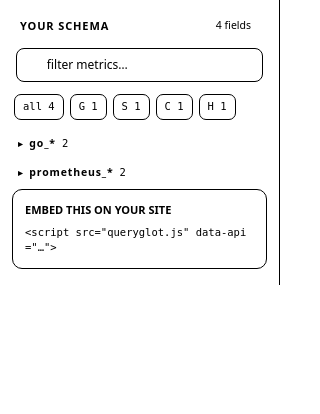
Scenario: SchemaRail › shows the field count and one type badge per row
Expected: the text "4 fields" is shown, [216,18,251,32]
Step 1. Click the button "▸ go_* 2" → (140,141), box [12,128,267,155]
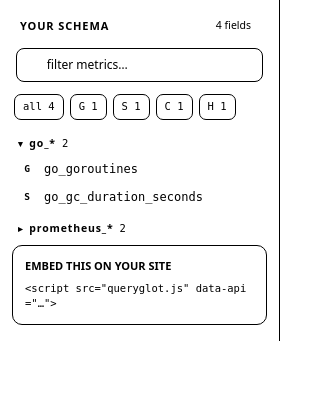
Step 2. Click the button "▸ prometheus_* 2" → (140,227), box [12,213,267,241]
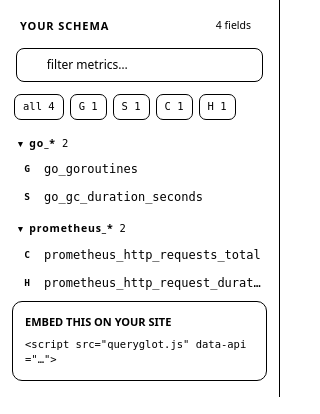
Expected: the text "S" is shown, [24,191,30,202]
Expected: the text "H" is shown, [24,277,30,288]
